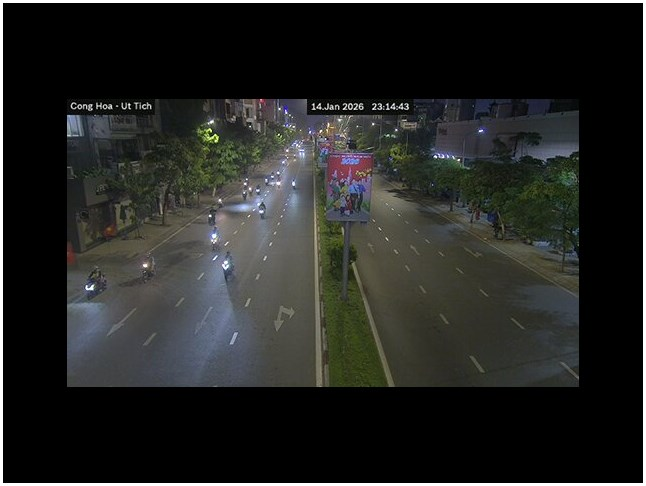car: (264, 173, 282, 186)
motorbike: (83, 266, 109, 297), (138, 252, 155, 280), (220, 251, 236, 280), (207, 226, 219, 250), (204, 205, 217, 225), (258, 203, 267, 219), (255, 186, 262, 198), (289, 179, 297, 189)
